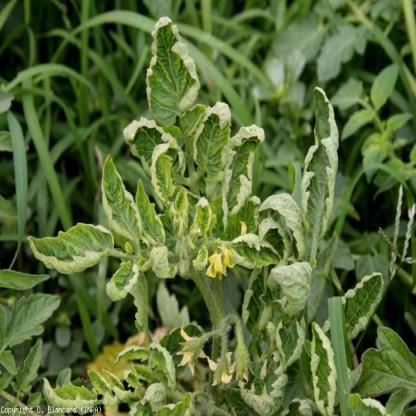Tomato leaf yellow virus: (149, 10, 200, 159), (22, 218, 122, 280), (215, 114, 274, 218), (121, 111, 188, 201), (96, 153, 148, 243), (190, 95, 238, 184), (303, 322, 338, 415), (225, 234, 283, 267), (191, 198, 213, 244)
